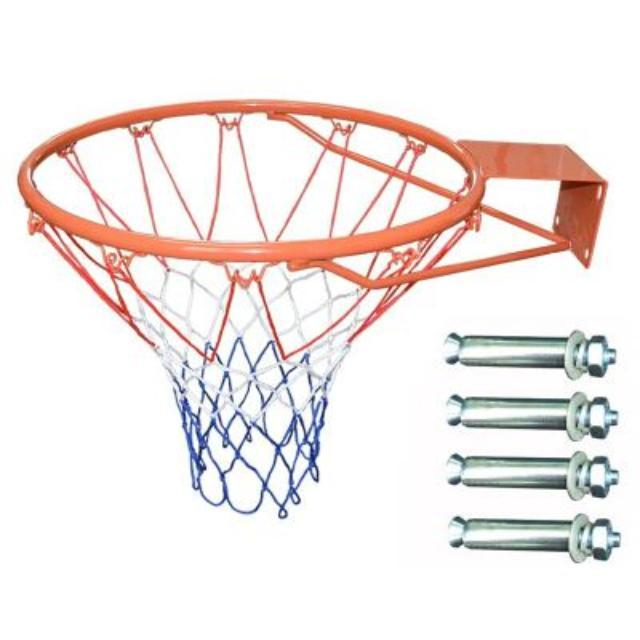rim: (18, 97, 486, 513)
